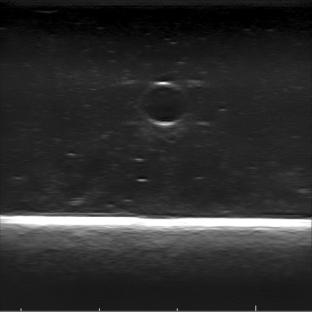vessel: (139, 80, 190, 129)
